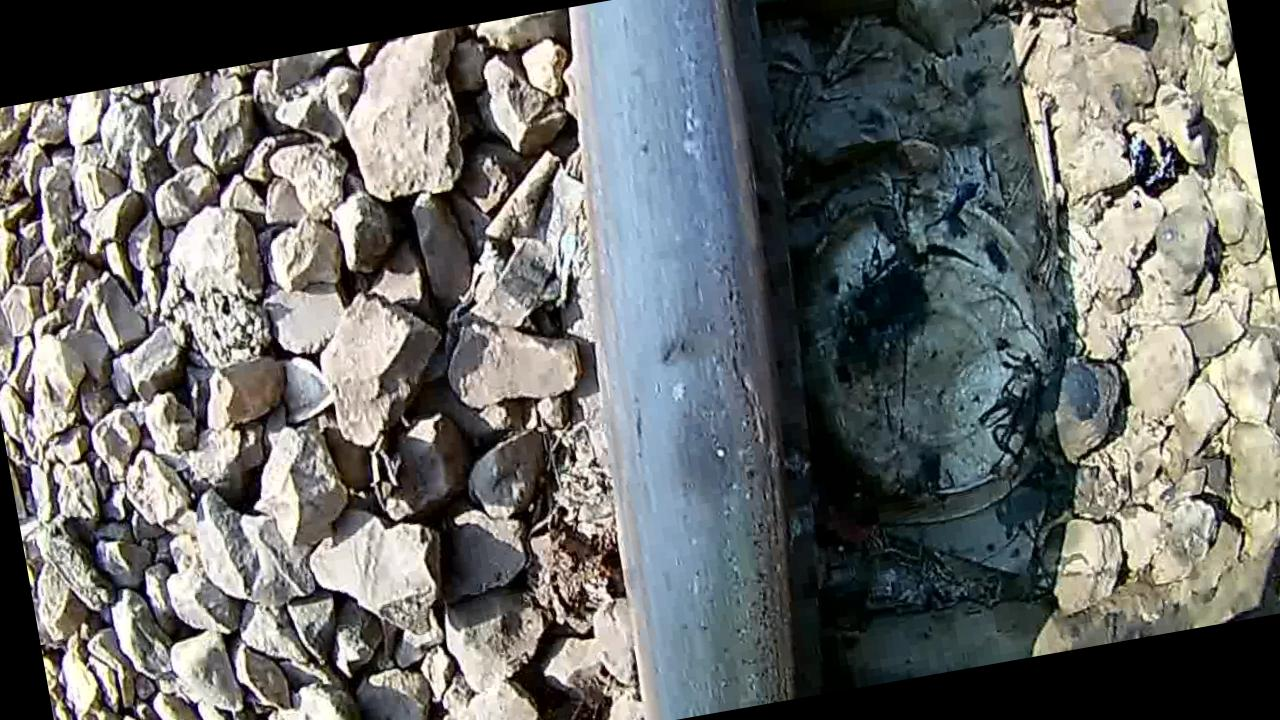bolt_missing: (588, 255, 792, 597)
